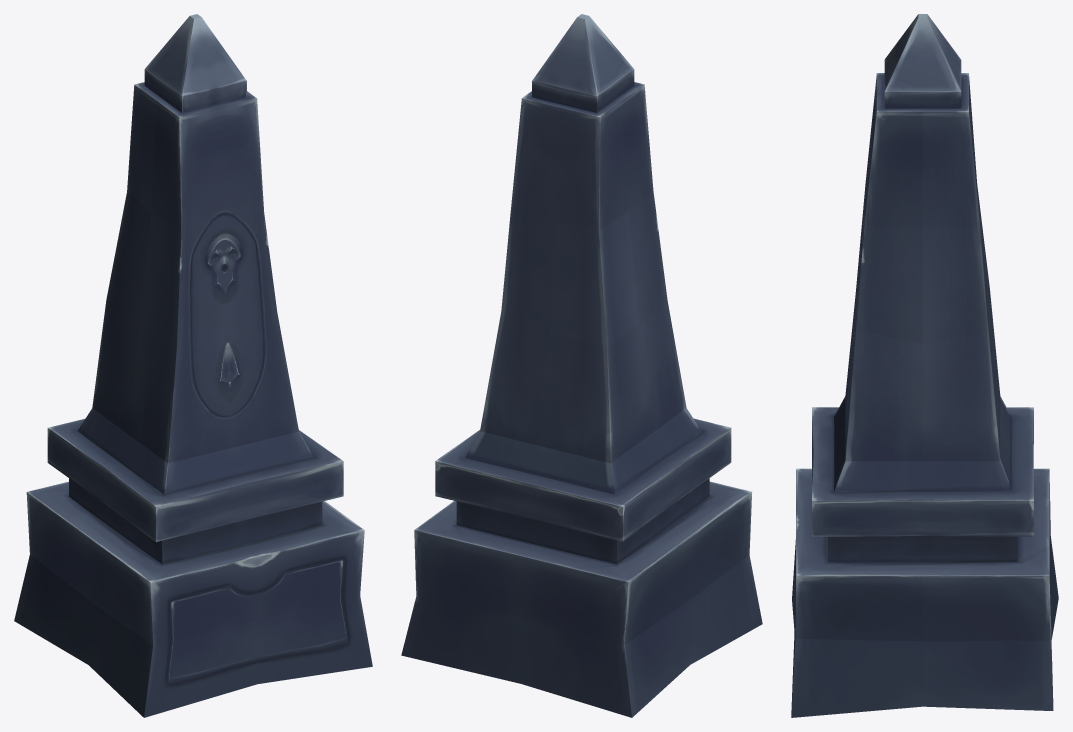
File: gravestone1_2.fbx
The picture shows the model from 3 angles, left to right: view 1: azimuth 30°, elevation 25°; view 2: azimuth 150°, elevation 25°; view 3: azimuth 270°, elevation 25°; orthographic projection. The views are drawn at different scales.
Parts seen in each view (by area): view 1: Cube.006; view 2: Cube.006; view 3: Cube.006.
Boxes of the visible parts, x1,y1,x2,y2 form: Cube.006: [14, 14, 372, 717]; Cube.006: [401, 14, 762, 717]; Cube.006: [791, 14, 1058, 717].
Size of the model in its own units: 207 by 534 by 201.
